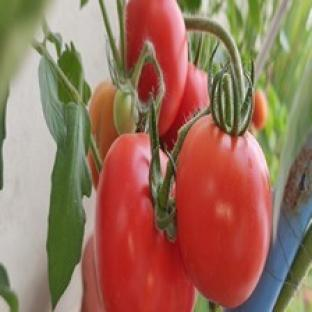Tomato: (176, 116, 271, 307), (95, 134, 194, 311), (162, 63, 208, 150), (90, 81, 118, 160), (81, 236, 104, 311), (115, 90, 136, 135), (253, 90, 267, 130)
